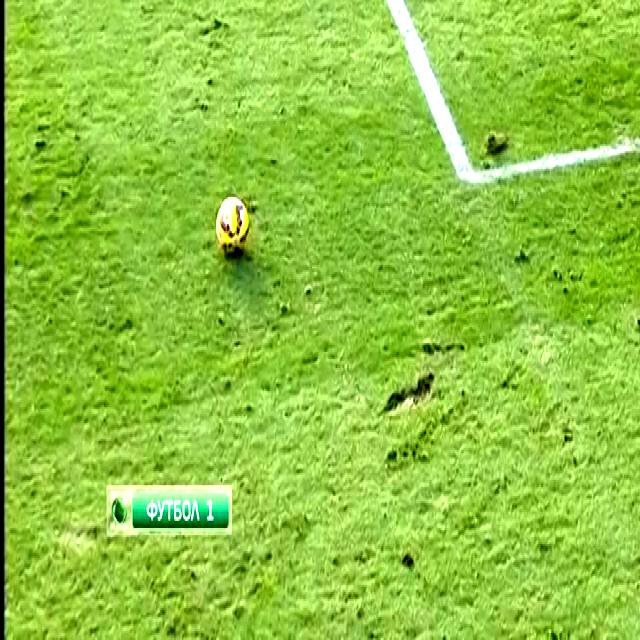ball: (207, 186, 262, 261)
